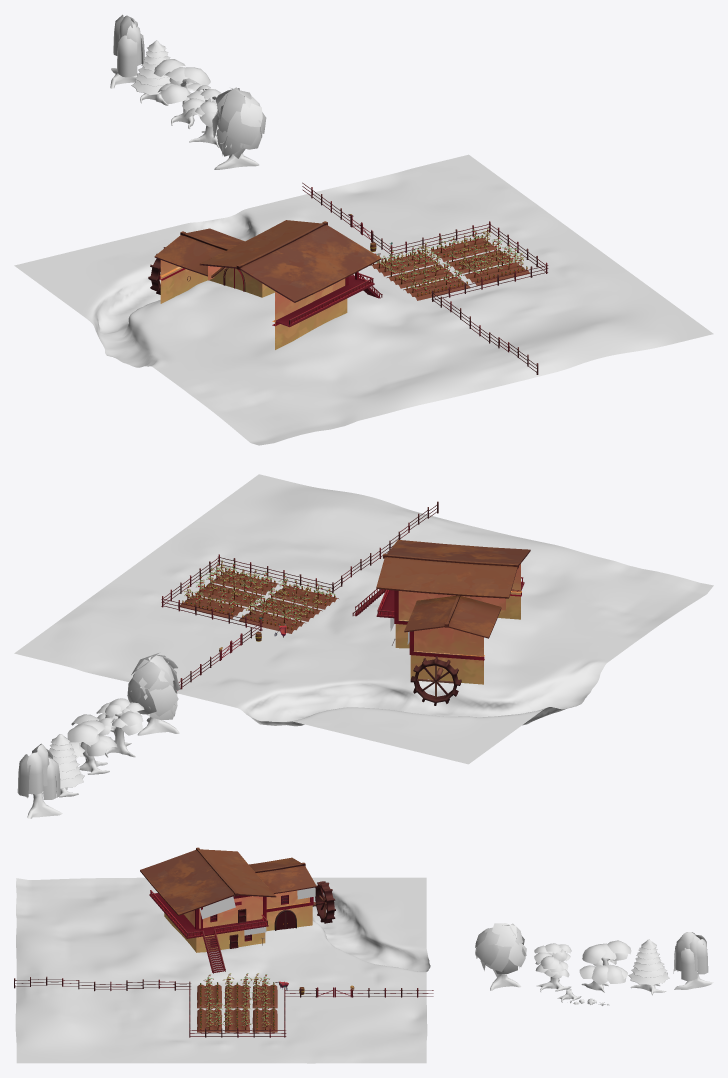
The model's file is TorreM_PII_ModeloLobby_Modelado_v03 1.fbx.
3 renders of one model, top to bottom at view 1: azimuth 30°, elevation 25°; view 2: azimuth 150°, elevation 25°; view 3: azimuth 270°, elevation 25°, orthographic. The views are drawn at different scales.
Parts seen in each view (by area): view 1: Suelo, Casa, Harado, Arbol_4, Tomateras, Vallas, Arbol_2, Arbol_5, Arbol_3, Arbol_1; view 2: Suelo, Casa, Harado, Arbol_4, Tomateras, Arbol_5, Vallas, Arbol_2, Arbol_1, Arbol_3, Zanahorias; view 3: Suelo, Casa, Harado, Arbol_4, Arbol_2, Tomateras, Vallas, Arbol_5, Arbol_3, Arbol_1, Enredadera_1, Zanahorias.
Boxes of the visible parts, x1,y1,x2,y2 form: Suelo: [14, 154, 713, 445]; Casa: [148, 220, 382, 349]; Harado: [370, 238, 529, 300]; Arbol_4: [212, 87, 266, 169]; Tomateras: [376, 228, 524, 292]; Vallas: [302, 182, 548, 374]; Arbol_2: [154, 59, 214, 129]; Arbol_5: [110, 14, 144, 88]; Arbol_3: [131, 40, 170, 105]; Arbol_1: [182, 85, 220, 147]; Suelo: [14, 474, 713, 764]; Casa: [352, 539, 530, 705]; Harado: [180, 571, 338, 633]; Arbol_4: [127, 653, 180, 735]; Tomateras: [184, 560, 335, 626]; Arbol_5: [17, 743, 62, 818]; Vallas: [161, 501, 438, 690]; Arbol_2: [67, 714, 117, 774]; Arbol_1: [96, 698, 144, 757]; Arbol_3: [42, 734, 84, 797]; Zanahorias: [182, 567, 335, 629]; Suelo: [15, 877, 430, 1063]; Casa: [140, 847, 335, 973]; Harado: [197, 984, 277, 1032]; Arbol_4: [475, 923, 526, 990]; Arbol_2: [579, 940, 631, 992]; Tomateras: [203, 973, 271, 1029]; Vallas: [14, 976, 433, 1037]; Arbol_5: [673, 932, 713, 989]; Arbol_3: [628, 939, 669, 995]; Arbol_1: [534, 943, 571, 991]; Enredadera_1: [199, 896, 235, 919]; Zanahorias: [200, 982, 274, 1029].
Bounding box in the file's own units: 7353 × 1462 × 11456.
